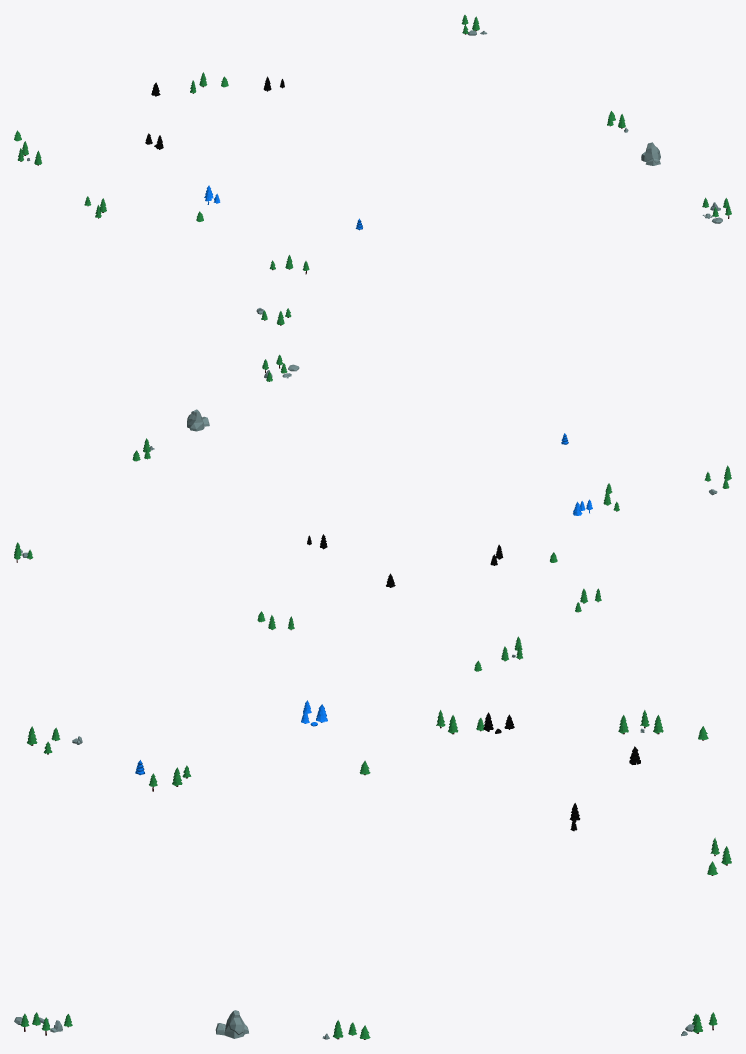
The model's file is treesAndRocks.glb.
3 views of the same model, one above another, from view 1: azimuth 30°, elevation 25°; view 2: azimuth 150°, elevation 25°; view 3: azimuth 270°, elevation 25° (orthographic). The views are drawn at different scales.
Parts seen in each view (by area): view 1: no part large enough to name; view 2: no part large enough to name; view 3: stone_with_moss_7.002.
Part boxes in pixels (left/top/right/bottom): stone_with_moss_7.002: left=215, top=1010, right=248, bottom=1038.
Size of the model in its own units: 2002 by 199 by 1924.
